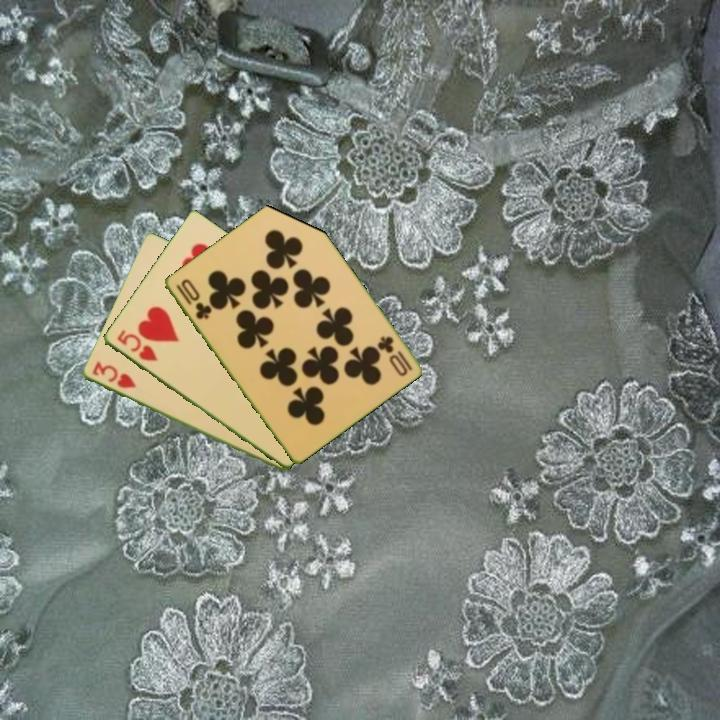10c: (172, 275, 214, 322), (374, 332, 415, 374)
3h: (88, 357, 138, 392)
5h: (113, 326, 160, 364)
